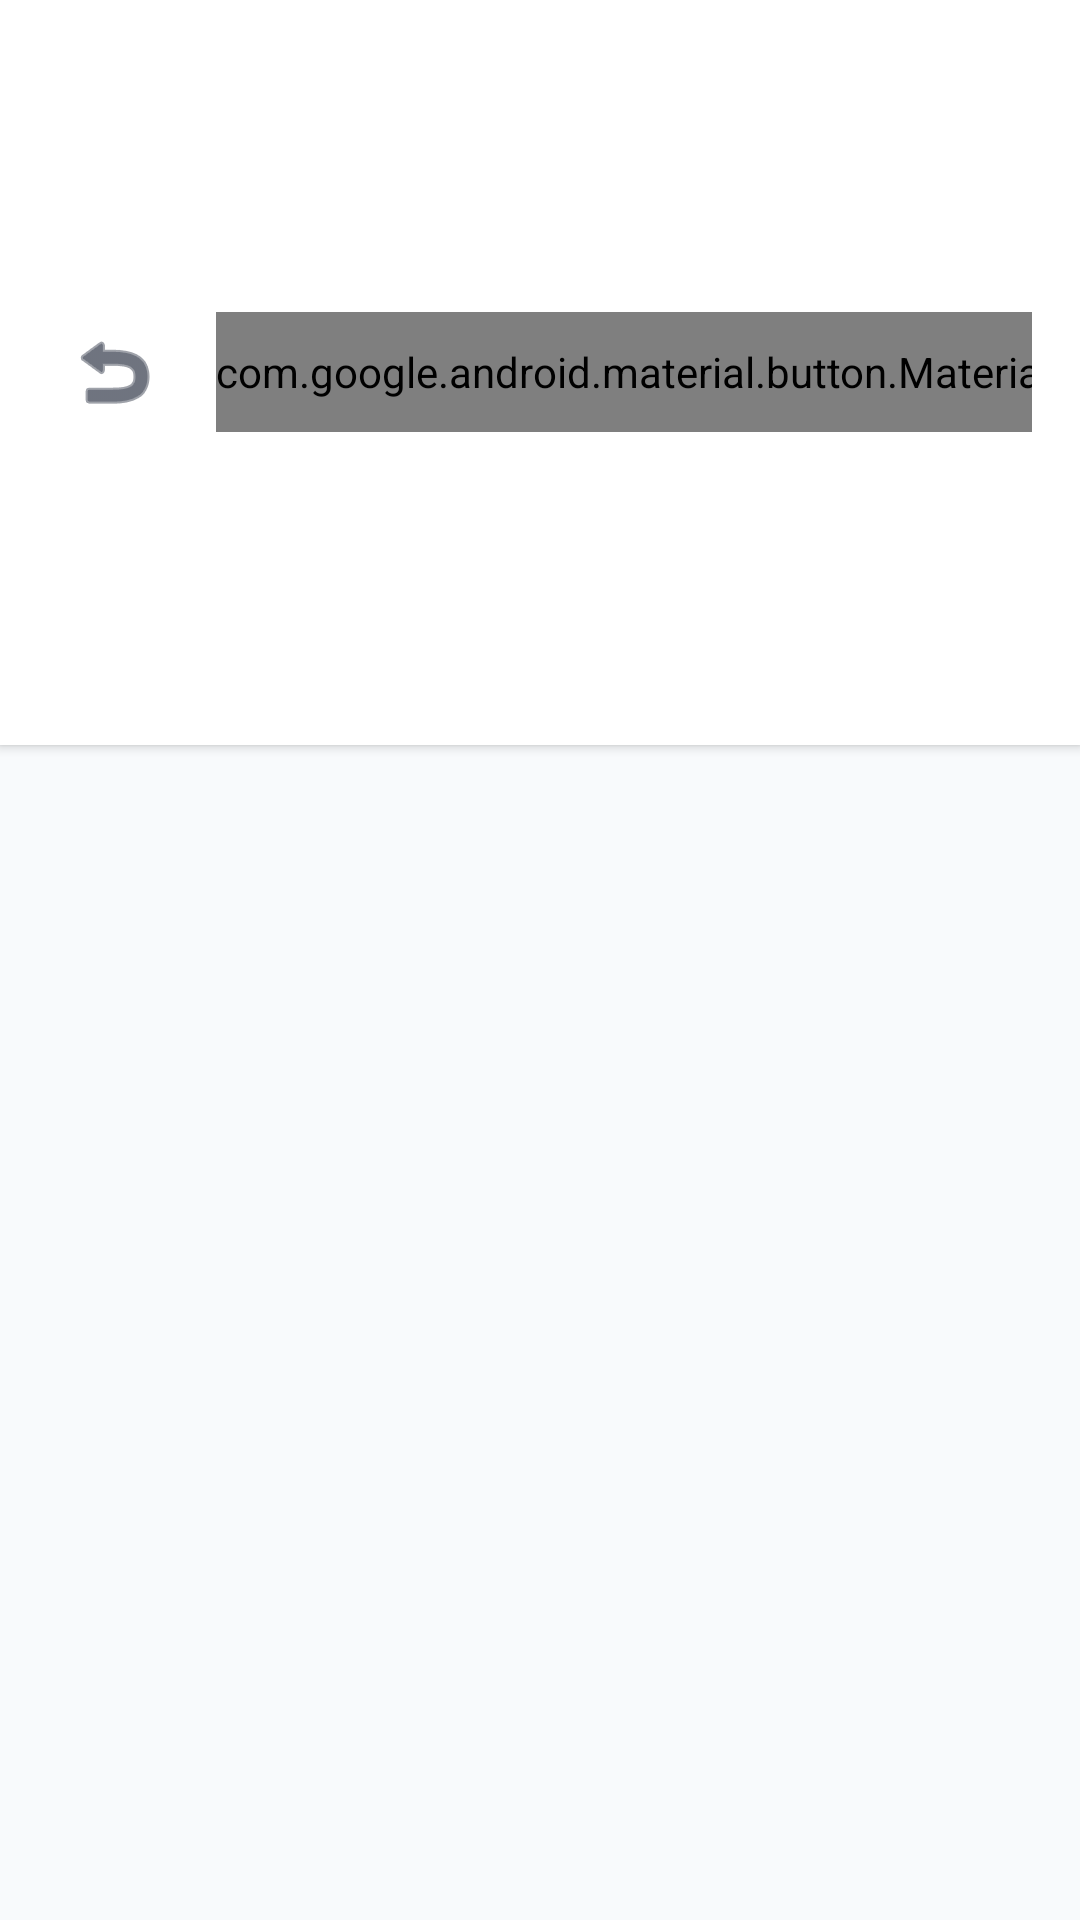

Icon click points for this 1080x1920 phone screenshot, format point (x, y):
Back: point (115, 372)
